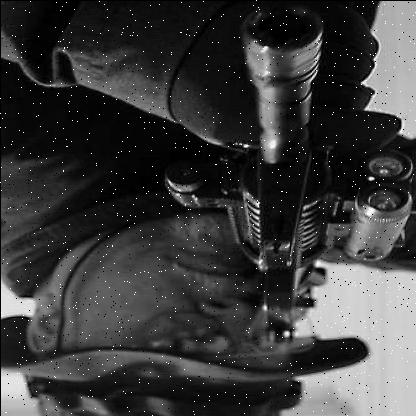rifle: (139, 0, 416, 348)
